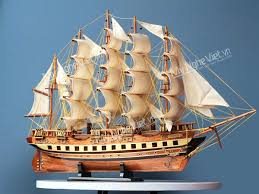tau_dansu: (30, 22, 236, 171)
